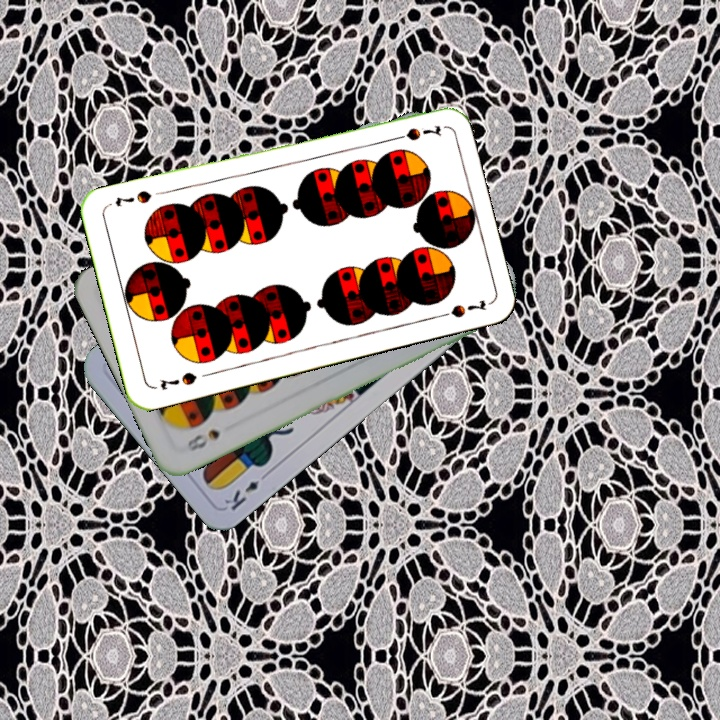EK: (220, 467, 272, 513)
S7: (386, 121, 444, 144), (156, 368, 200, 393)
S8: (183, 425, 222, 454)
